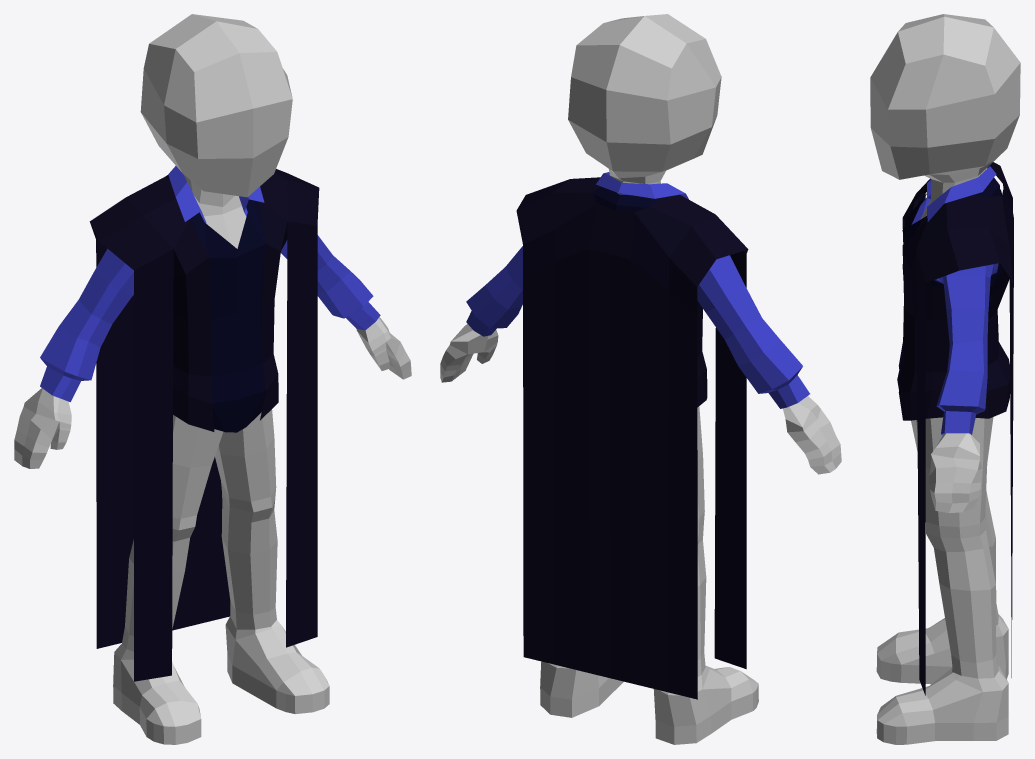
The model's file is aster.obj.
The picture shows the model from 3 angles, left to right: view 1: azimuth 30°, elevation 25°; view 2: azimuth 150°, elevation 25°; view 3: azimuth 270°, elevation 25°; orthographic projection.
Visible parts, largest first — view 1: Coat, BSurfaceMesh, Vest, Shirt; view 2: Coat, BSurfaceMesh, Shirt, Vest; view 3: BSurfaceMesh, Coat, Shirt, Vest.
Boxes of the visible parts, box(x1,y1,x2,y2) form: Coat: box(89, 169, 319, 681); BSurfaceMesh: box(14, 14, 411, 744); Vest: box(167, 177, 265, 432); Shirt: box(40, 166, 380, 402); Coat: box(516, 177, 748, 699); BSurfaceMesh: box(440, 14, 841, 744); Shirt: box(466, 172, 809, 408); Vest: box(592, 186, 660, 212); BSurfaceMesh: box(870, 14, 1020, 744); Coat: box(898, 162, 1013, 695); Shirt: box(911, 165, 998, 435); Vest: box(897, 178, 1010, 389).
Size of the model in its own units: 1.96 by 3.31 by 0.6551.
